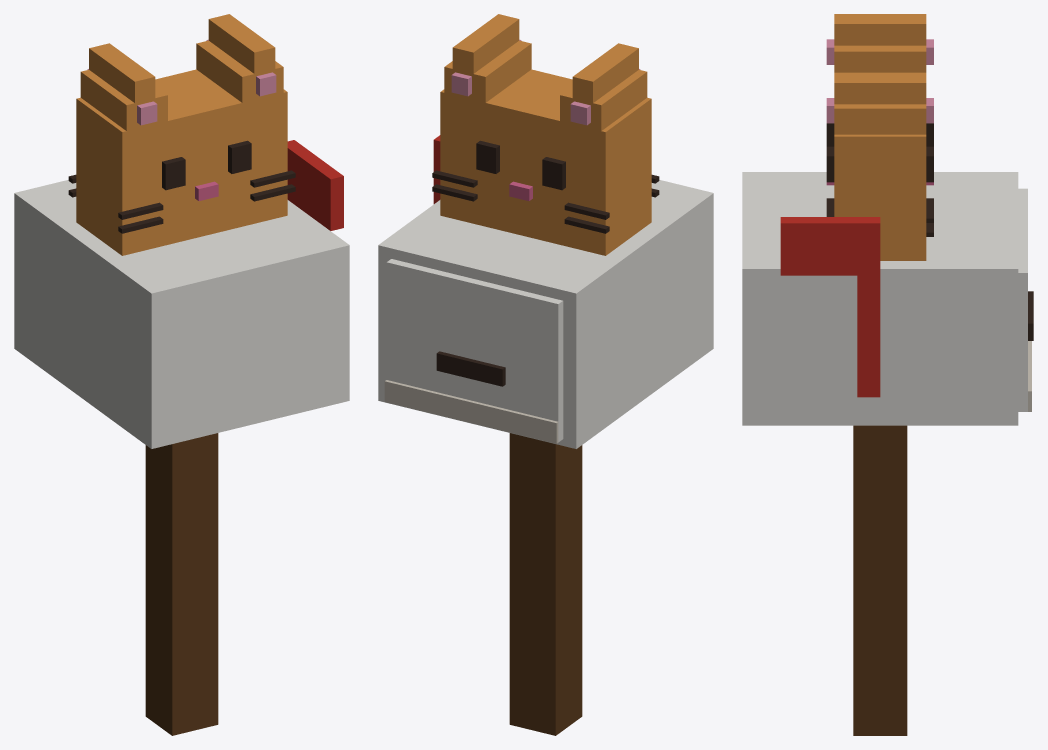
The model's file is ncb-cat-mailbox.glb.
The picture shows the model from 3 angles, left to right: view 1: azimuth 30°, elevation 25°; view 2: azimuth 150°, elevation 25°; view 3: azimuth 270°, elevation 25°; orthographic projection.
Visible parts, largest first — view 1: box-prop; view 2: box-prop, part-flap; view 3: box-prop, part-flap.
Part boxes in pixels (x1,y1,x2,y2): box-prop: (14, 14, 349, 735); box-prop: (378, 14, 713, 735); part-flap: (384, 259, 563, 443); box-prop: (742, 14, 1018, 735); part-flap: (1018, 188, 1033, 411).
Size of the model in its own units: 0.64 by 1.95 by 0.76.
